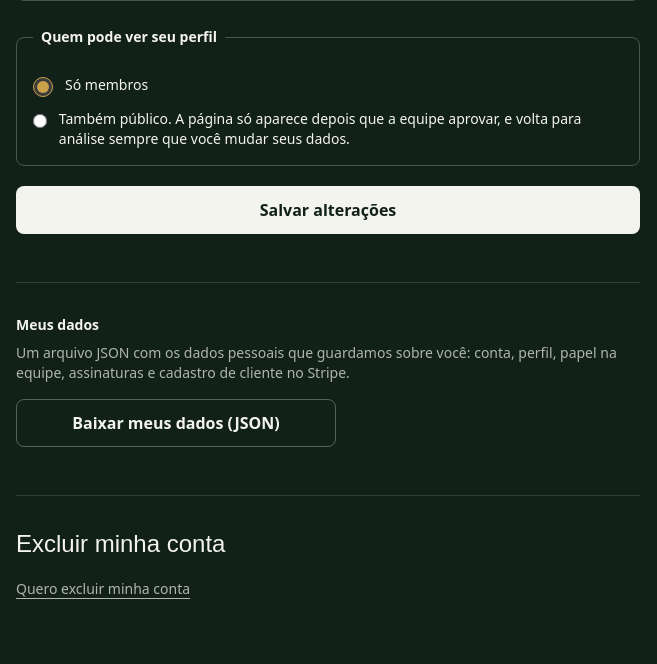
Test: tela Meu perfil › Meus dados: erro ao baixar aparece na tela
(page scrolled)
Click the button "Baixar meus dados (JSON)".
click(176, 423)  # box [16, 399, 336, 447]
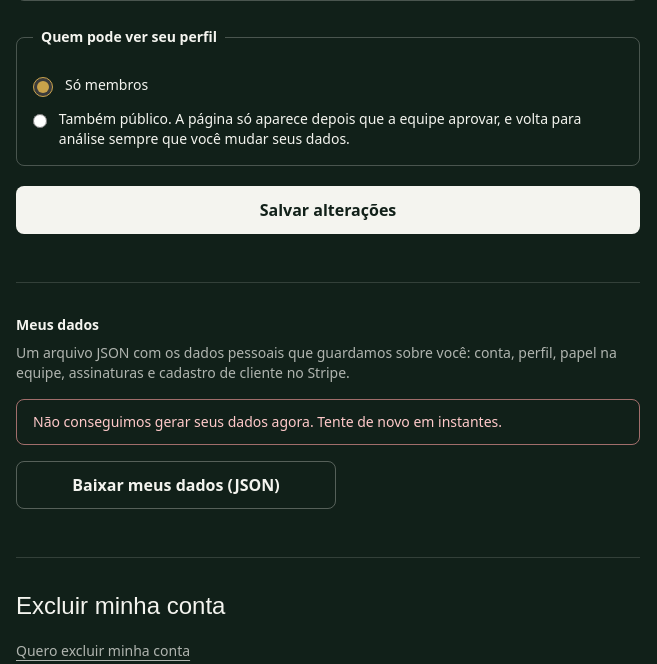
Expected: the message shows "Não conseguimos gerar", [33, 412, 502, 431]
